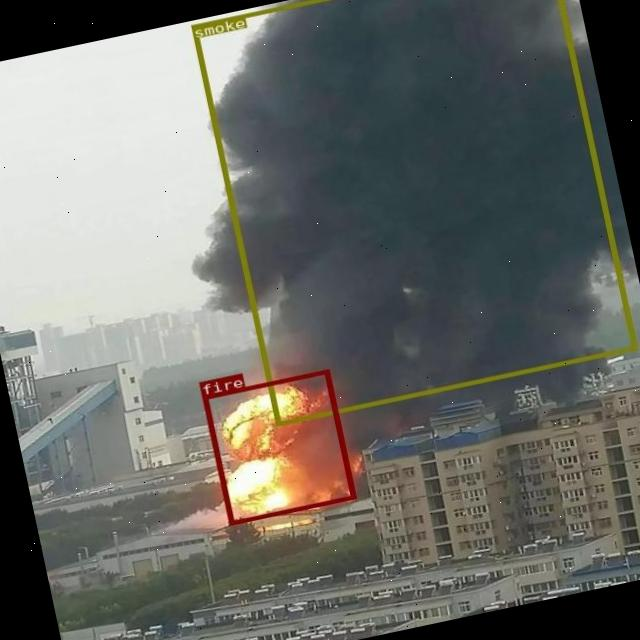fire: (201, 368, 355, 524)
smoke: (190, 0, 635, 424)
